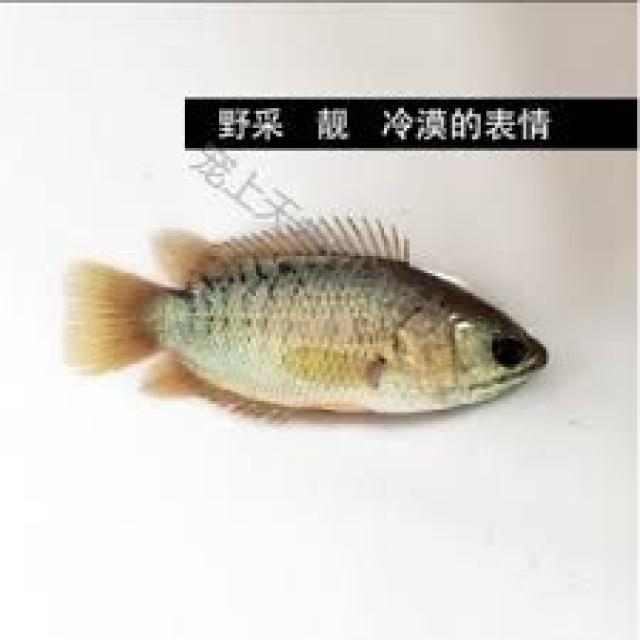Climbing-Perch: (30, 199, 609, 440)
